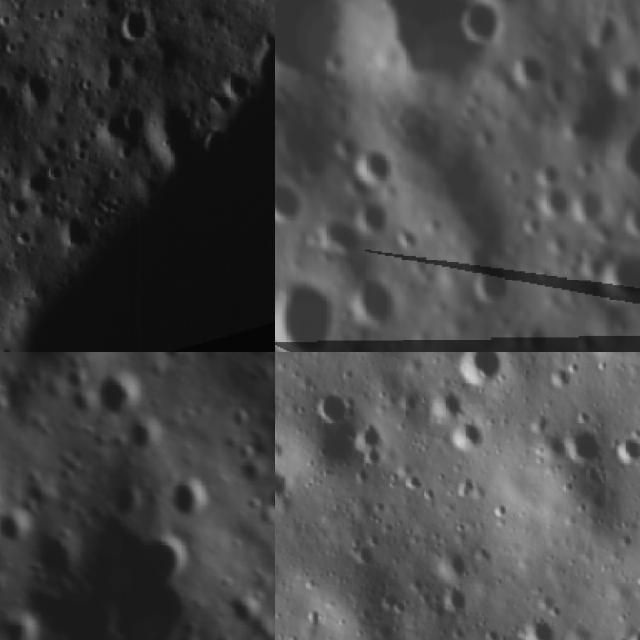crater: (32, 521, 201, 640), (367, 0, 503, 97), (275, 0, 356, 94), (275, 280, 338, 352), (606, 74, 640, 185), (93, 105, 149, 167), (91, 366, 146, 422), (461, 257, 515, 313), (158, 470, 214, 524), (139, 531, 193, 586), (347, 273, 398, 328), (317, 212, 364, 264), (599, 247, 640, 305), (112, 4, 158, 53), (351, 148, 399, 192), (461, 0, 504, 49), (563, 421, 605, 468), (451, 352, 505, 387), (312, 386, 354, 429), (125, 420, 167, 462), (224, 588, 267, 629), (56, 215, 100, 255), (349, 196, 395, 233), (18, 72, 54, 118), (214, 66, 252, 109), (275, 177, 305, 228), (572, 246, 610, 286), (430, 544, 469, 582), (18, 164, 54, 205), (449, 419, 491, 454), (425, 385, 464, 422), (607, 426, 640, 469), (346, 418, 389, 451), (107, 488, 144, 526), (608, 57, 640, 100), (511, 52, 547, 88), (583, 15, 624, 46), (439, 583, 473, 619), (0, 518, 37, 551), (537, 186, 571, 221), (532, 158, 566, 192), (234, 462, 270, 491), (516, 613, 554, 640), (544, 362, 576, 394), (520, 322, 553, 352), (1, 616, 42, 640), (59, 367, 93, 395), (329, 134, 358, 164), (515, 213, 549, 237), (258, 483, 275, 530), (360, 445, 391, 470), (232, 445, 258, 471), (522, 410, 552, 432), (235, 352, 275, 367), (574, 159, 600, 182), (401, 472, 427, 494), (275, 464, 288, 502), (0, 570, 12, 611), (153, 352, 190, 365), (172, 630, 212, 640), (275, 435, 286, 466), (54, 352, 82, 362), (326, 352, 360, 360), (606, 634, 633, 640)
